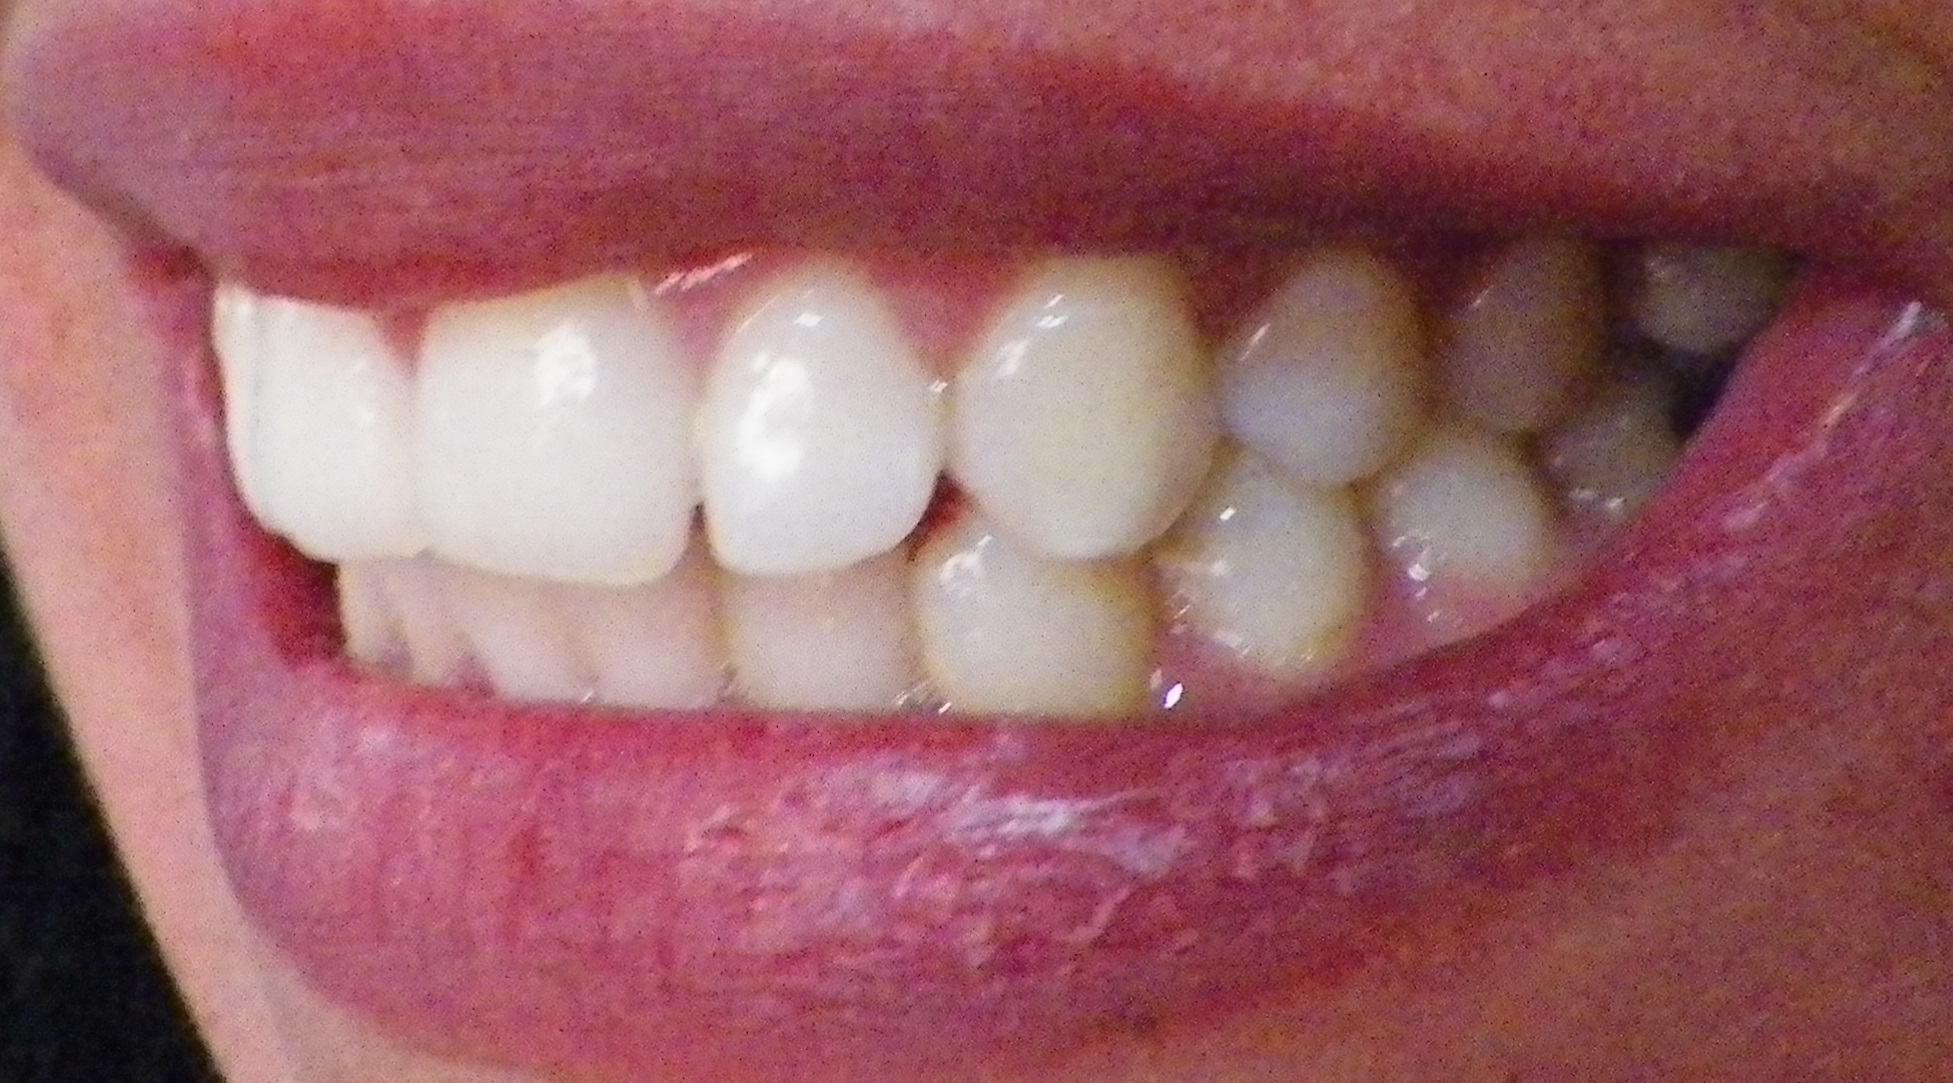boca: (212, 269, 1777, 714)
